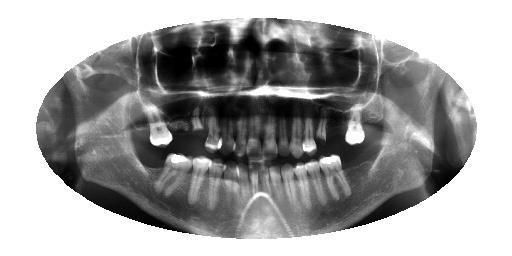Cavity: (264, 112, 277, 162), (248, 112, 261, 160)
Fillings: (319, 154, 344, 203), (162, 155, 188, 197), (148, 107, 171, 148)
